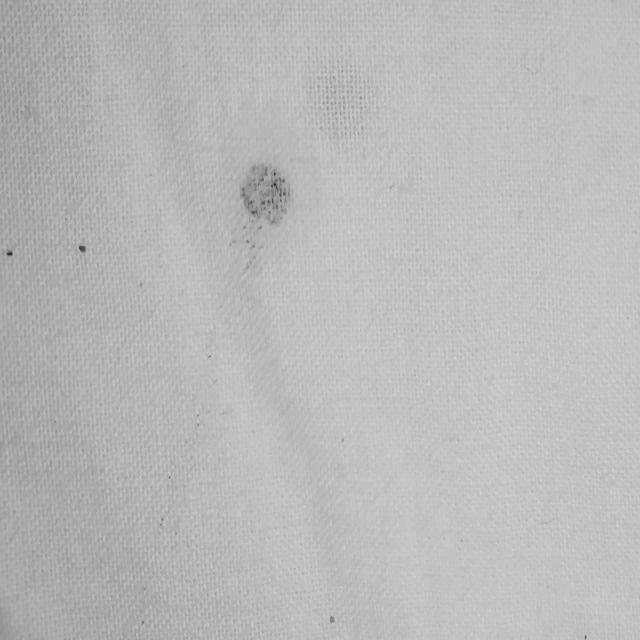Stain: (242, 163, 289, 223)
